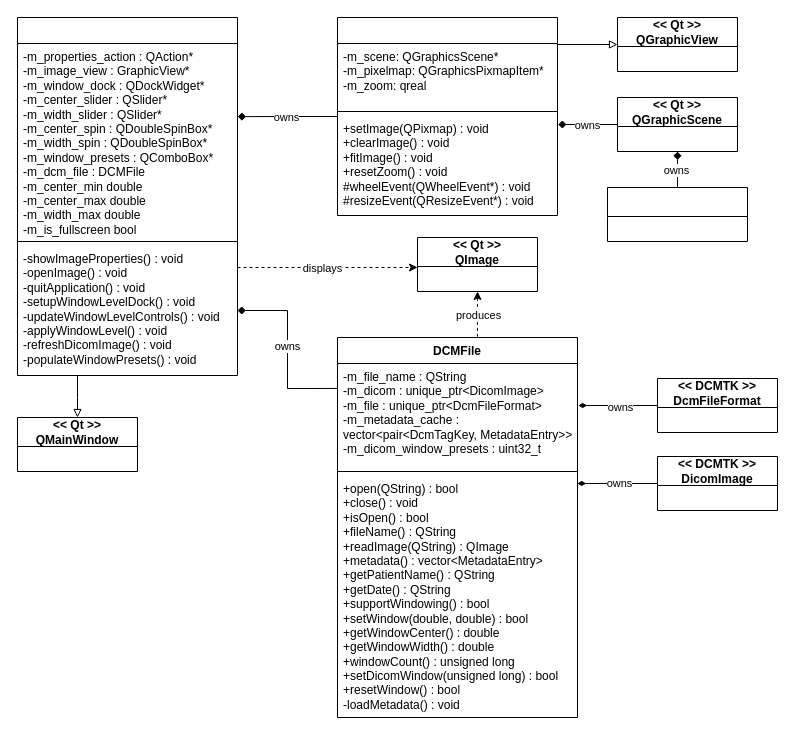
The diagram is 795 pixels wide and 738 high, and some of its shapes have lost their labels. The box of each missing label's shape, as (x1, y1, x2, y2) in pixels:
<< Qt >> QGraphicsPixMapItem: (606, 186, 748, 242)
GraphicView: (336, 16, 558, 216)
MainWindow: (16, 16, 238, 376)
